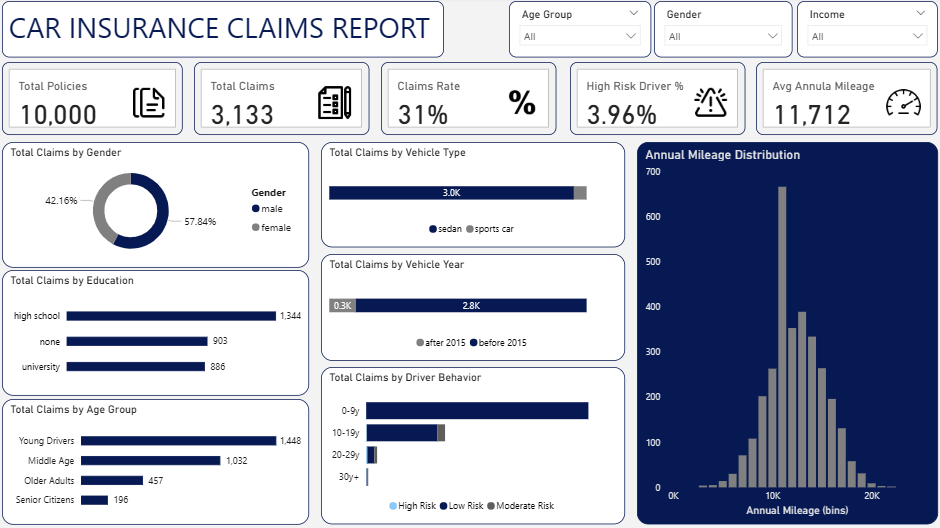

The page's visual inventory and layout, read from the dashboard file:
{"tool":"powerbi","page":{"name":"Overview","canvas":[1280,720],"ordinal":0},"visuals":[{"type":"cardVisual","fields":{"Data":["_Measures.Total Claims"]},"box":[273.7,86.3,232.7,96.6],"z":0},{"type":"cardVisual","fields":{"Data":["_Measures.Total Policies"]},"box":[19,86.3,240,96.6],"z":1000},{"type":"cardVisual","fields":{"Data":["_Measures.Claims Rate"]},"box":[522.4,86.3,232.7,96.6],"z":2000},{"type":"cardVisual","fields":{"Data":["_Measures.High Risk Driver %"]},"box":[772.7,86.3,232.7,96.6],"z":3000},{"type":"cardVisual","fields":{"Data":["_Measures.Avg Annula Mileage"]},"box":[1020,86.3,241.5,96.6],"z":4000},{"type":"donutChart","fields":{"Y":["_Measures.Total Claims"],"Category":["Car_Insurance_Claim.Gender"]},"box":[19,193.2,408.3,166.8],"z":5000},{"type":"barChart","fields":{"Category":["Car_Insurance_Claim.Education"],"Y":["_Measures.Total Claims"]},"box":[19,362.9,408.3,166.8],"z":6000},{"type":"barChart","fields":{"Category":["Car_Insurance_Claim.Age Group"],"Y":["_Measures.Total Claims"]},"box":[19,534.1,408.3,166.8],"z":7000},{"type":"barChart","fields":{"Y":["_Measures.Total Claims"],"Series":["Car_Insurance_Claim.Vehicle Type"]},"box":[442,193.2,403.9,140.5],"z":8000},{"type":"barChart","fields":{"Y":["_Measures.Total Claims"],"Series":["Car_Insurance_Claim.Vehicle Year"]},"box":[442,341,403.9,142],"z":9000},{"type":"barChart","title":"Total Claims by Driver Behavior","fields":{"Y":["_Measures.Total Claims"],"Category":["Car_Insurance_Claim.Driving Experience"],"Series":["Car_Insurance_Claim.Driving Risk Category"]},"box":[442,491.7,403.9,209.3],"z":10000},{"type":"clusteredColumnChart","title":"Annual Mileage Distribution","fields":{"Category":["Car_Insurance_Claim.Annual Mileage (bins)"],"Y":["_Measures.Total Claims"]},"box":[862,193.2,399.5,507.8],"z":11000},{"type":"textbox","box":[19,5.9,586.8,74.6],"z":12000},{"type":"slicer","fields":{"Values":["Car_Insurance_Claim.Age Group"]},"box":[692.2,5.9,188.8,74.6],"z":13000},{"type":"slicer","fields":{"Values":["Car_Insurance_Claim.Gender"]},"box":[885.4,5.9,184.4,74.6],"z":14000},{"type":"slicer","fields":{"Values":["Car_Insurance_Claim.Income"]},"box":[1074.1,5.9,187.3,74.6],"z":15000}]}

Visuals, with their boxes in screenshot pixels (x1, y1, x2, y2), scaled from the page's 1280x720 canvas onto the 940x528 screenshot:
cardVisual - _Measures.Total Claims: locate(201, 63, 372, 134)
cardVisual - _Measures.Total Policies: locate(14, 63, 190, 134)
cardVisual - _Measures.Claims Rate: locate(384, 63, 555, 134)
cardVisual - _Measures.High Risk Driver %: locate(567, 63, 738, 134)
cardVisual - _Measures.Avg Annula Mileage: locate(749, 63, 926, 134)
donutChart - _Measures.Total Claims x Car_Insurance_Claim.Gender: locate(14, 142, 314, 264)
barChart - Car_Insurance_Claim.Education x _Measures.Total Claims: locate(14, 266, 314, 388)
barChart - Car_Insurance_Claim.Age Group x _Measures.Total Claims: locate(14, 392, 314, 514)
barChart - _Measures.Total Claims x Car_Insurance_Claim.Vehicle Type: locate(325, 142, 621, 245)
barChart - _Measures.Total Claims x Car_Insurance_Claim.Vehicle Year: locate(325, 250, 621, 354)
"Total Claims by Driver Behavior" barChart: locate(325, 361, 621, 514)
"Annual Mileage Distribution" clusteredColumnChart: locate(633, 142, 926, 514)
textbox: locate(14, 4, 445, 59)
slicer - Car_Insurance_Claim.Age Group: locate(508, 4, 647, 59)
slicer - Car_Insurance_Claim.Gender: locate(650, 4, 786, 59)
slicer - Car_Insurance_Claim.Income: locate(789, 4, 926, 59)
